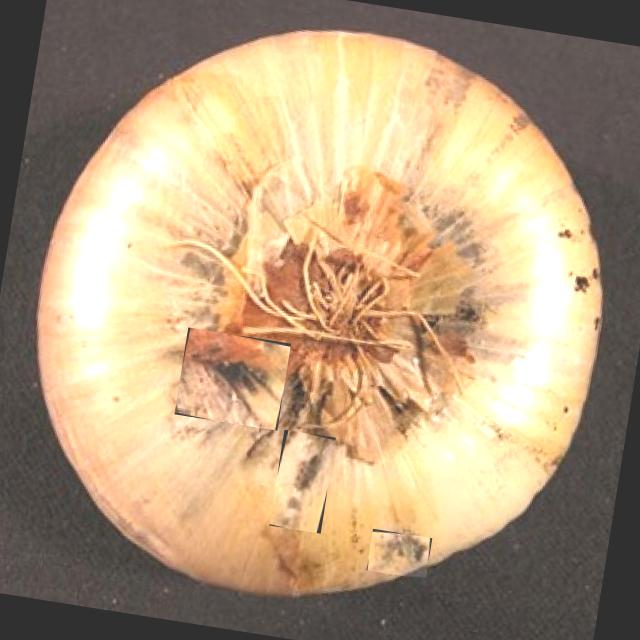mould: (174, 328, 290, 430), (269, 430, 336, 534), (367, 529, 432, 580)
